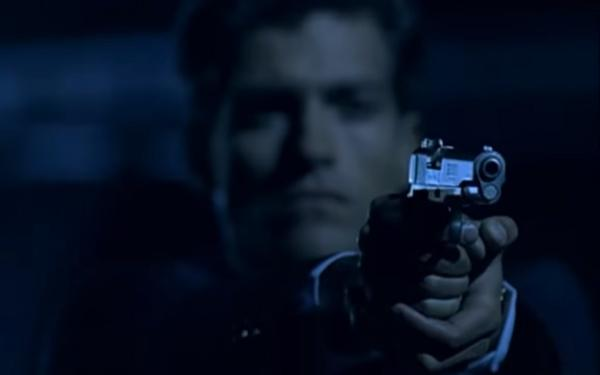Gun: (406, 138, 508, 214)
